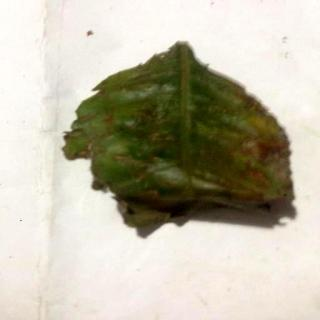Red Leaf Spot: (64, 45, 287, 229)
